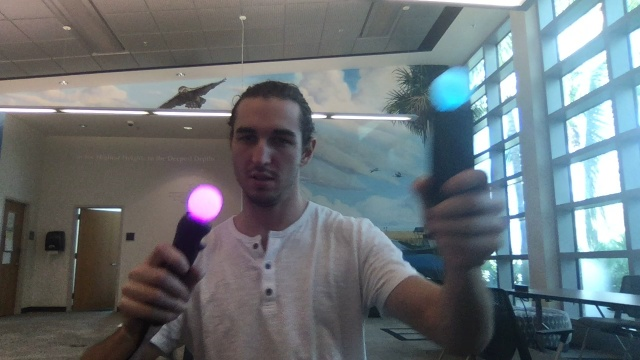wand: (428, 69, 470, 110), (189, 186, 223, 220)
